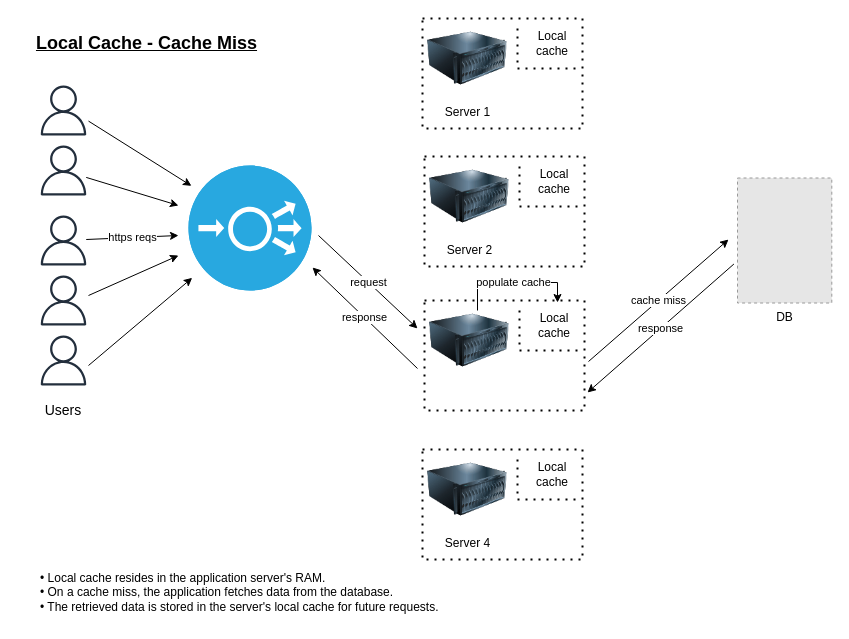
The diagram is 849 pixels wide and 639 high, and some of its shapes have lost their labels. Grey dashed boxes stand in for pictures. Each missing label, with the box of its shape:
LB: (188, 164, 312, 290)
Server 3: (429, 300, 509, 380)
